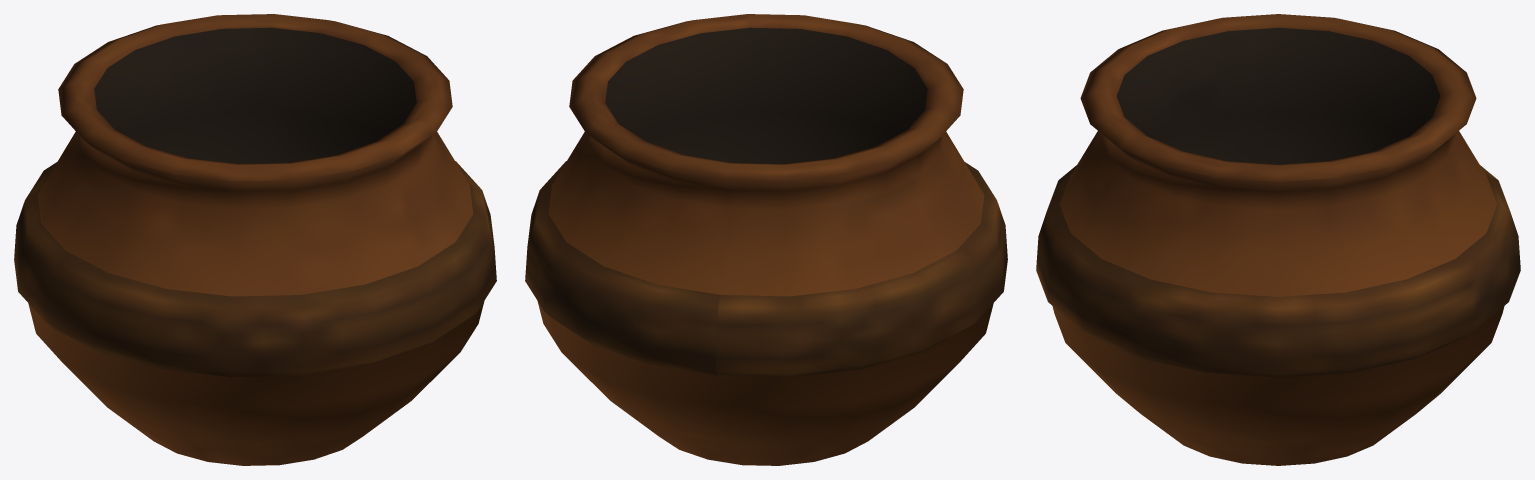
File: vase_a-DJn8IH_Y.glb
3 renders of one model, left to right at view 1: azimuth 30°, elevation 25°; view 2: azimuth 150°, elevation 25°; view 3: azimuth 270°, elevation 25°, orthographic.
Parts seen in each view (by area): view 1: Vase_2; view 2: Vase_2; view 3: Vase_2.
Boxes of the visible parts, x1,y1,x2,y2 form: Vase_2: (14,14,496,465); Vase_2: (525,14,1007,465); Vase_2: (1036,14,1520,465).
Bounding box in the file's own units: 1.67 × 1.24 × 1.67.
Materials: 1 (1 with a texture image).
